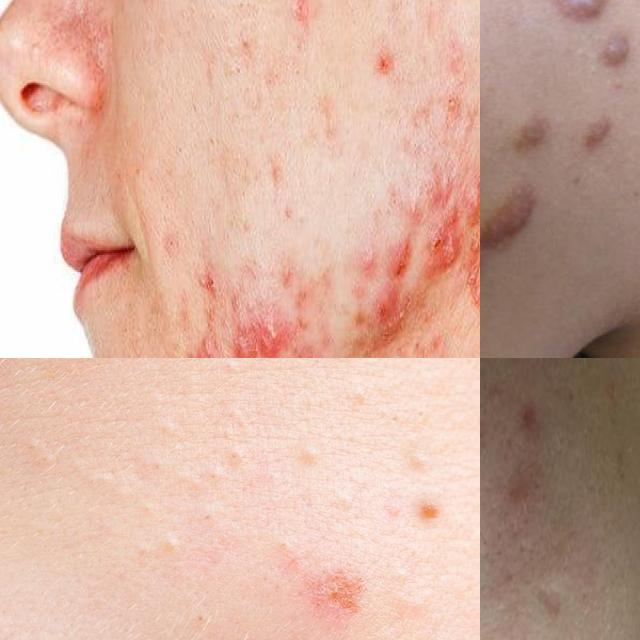acne_scars: (530, 564, 572, 636), (464, 162, 480, 233), (288, 334, 320, 358)
comedone: (84, 521, 214, 579), (368, 553, 439, 628), (176, 444, 248, 497), (156, 196, 197, 282), (276, 28, 317, 104), (390, 435, 443, 487), (315, 572, 365, 626), (225, 19, 259, 90), (285, 436, 335, 483), (481, 362, 514, 422), (281, 624, 368, 640)
keloid: (480, 183, 546, 295), (589, 26, 640, 71), (547, 0, 608, 23)
papule: (496, 456, 552, 539), (367, 40, 401, 90)
pustule: (434, 82, 469, 134)
sebo-crystan-conglo: (361, 220, 414, 349), (421, 204, 464, 288), (228, 302, 287, 358)
